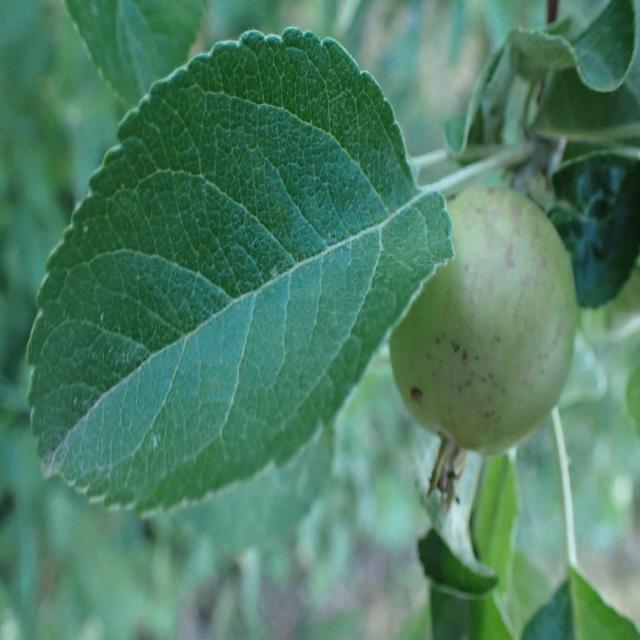healthy: (25, 25, 456, 518), (63, 0, 205, 110)
